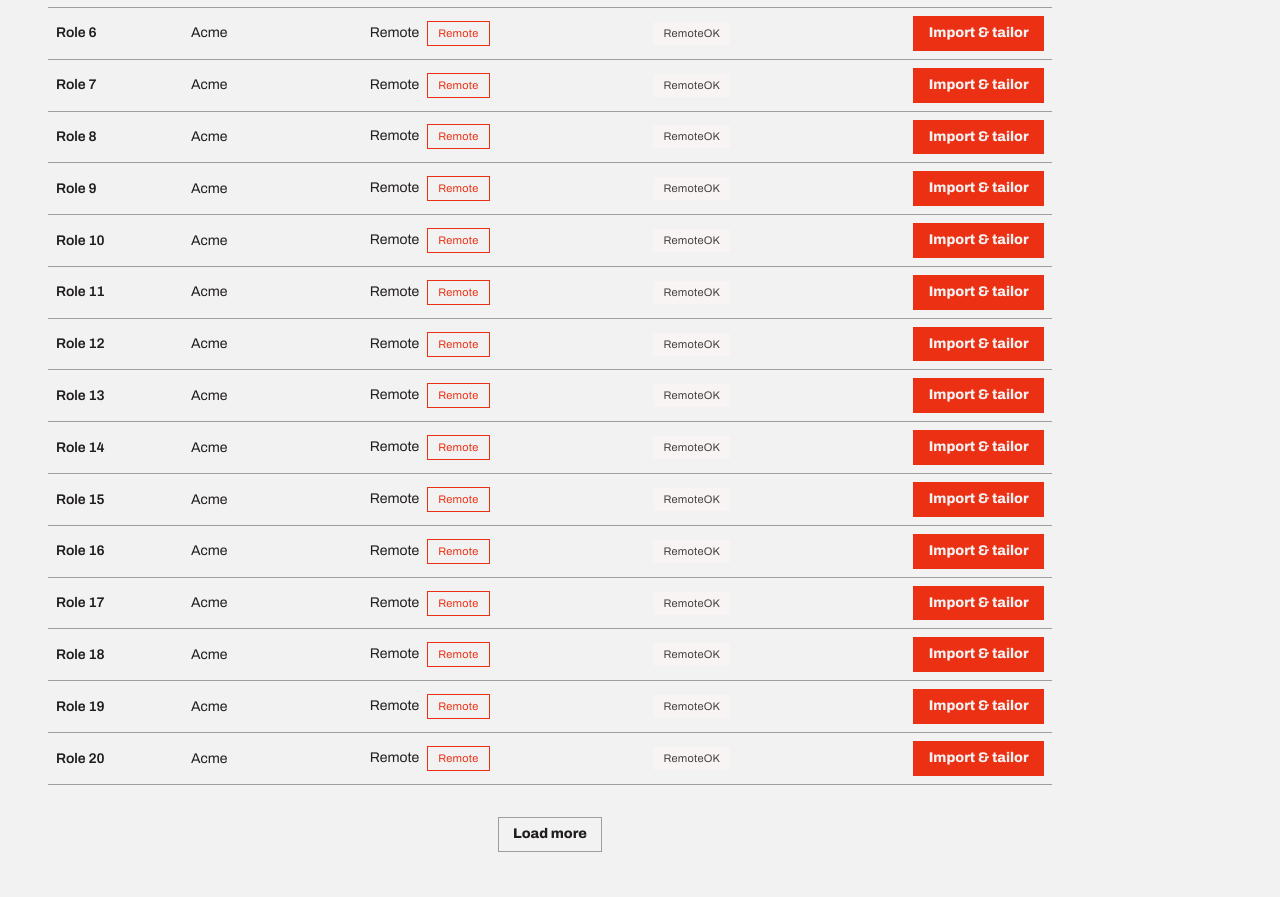
it: JobFeedPage load more › shows Load more when more listings exist, and requests a larger page on click
(page scrolled)
expect the text "Role 21" is not shown: met
Click the button "Load more".
click(550, 834)  # box [498, 817, 602, 852]
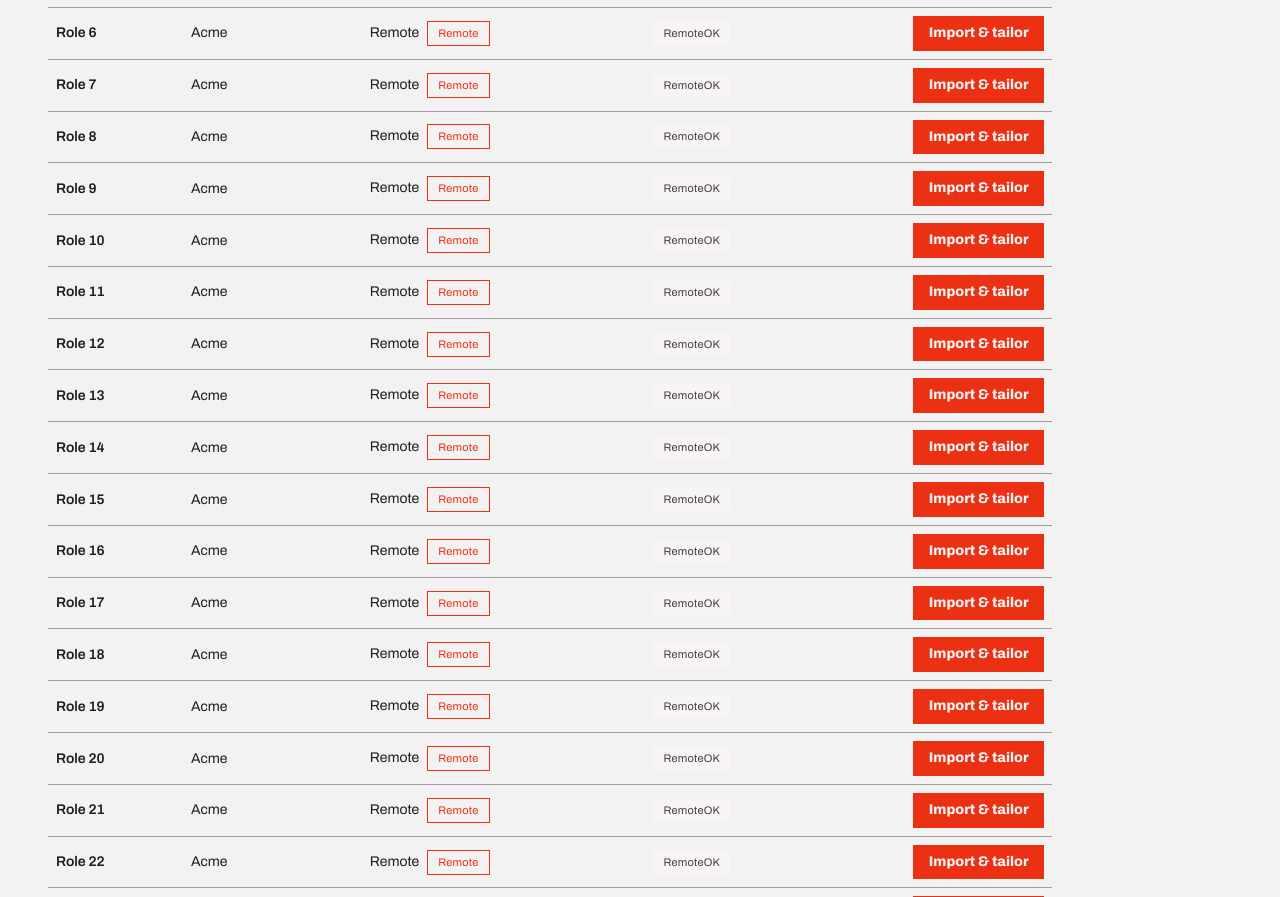
expect the link "Role 21" is shown: met, box [56, 802, 105, 817]
